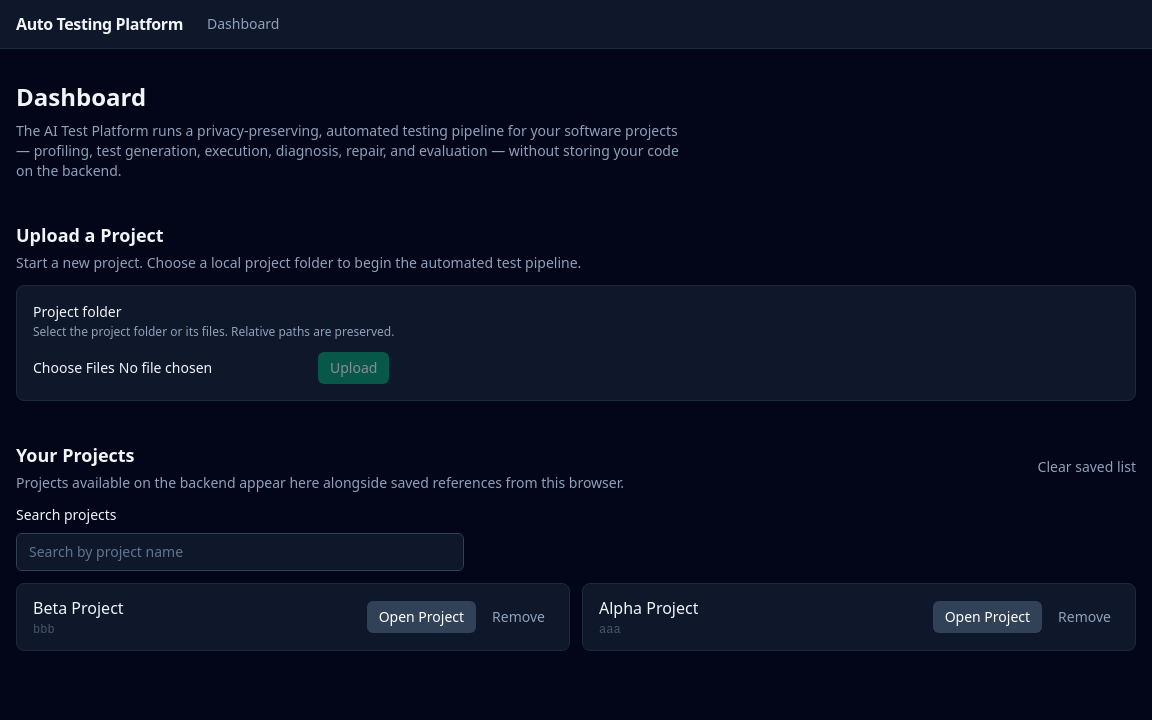
Scenario: DashboardPage › filters the project list by case-insensitive name search
This screenshot has width=1152, height=720.
Expected: the text "Alpha Project" is shown, [599,596,698,620]
Expected: the text "Beta Project" is shown, [33,596,124,620]
In the search field labelled "Search projects": (240, 552) [16,533,464,571], type "alpha"
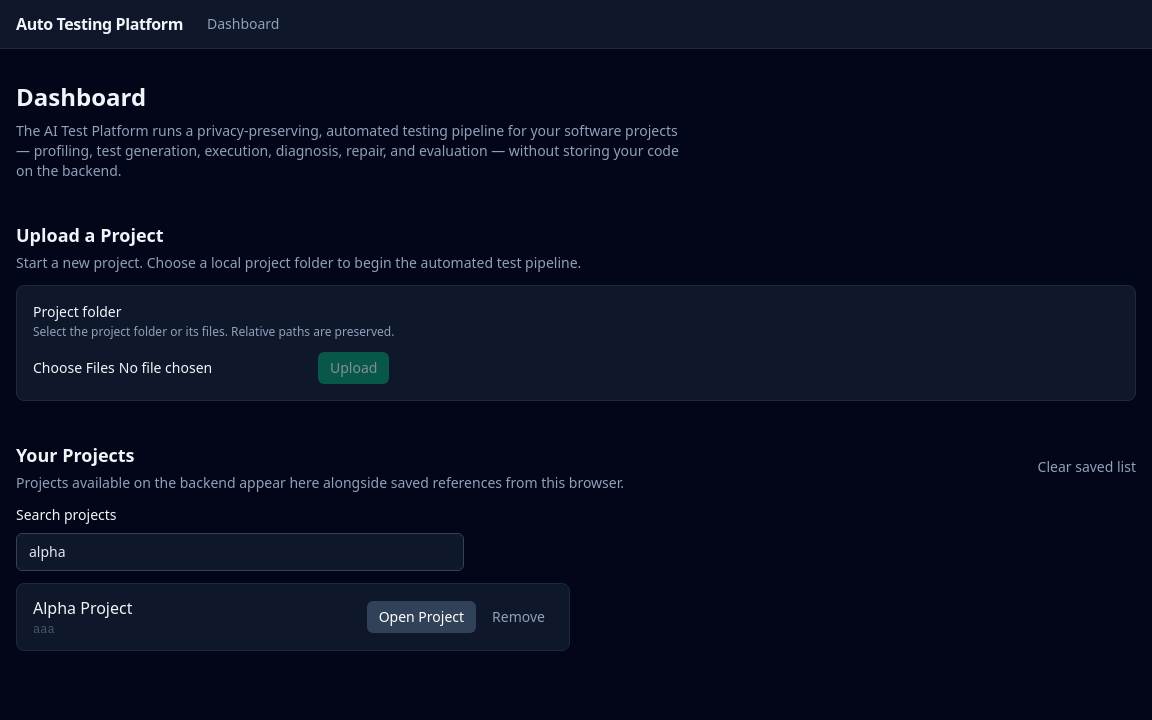
Expected: the text "Alpha Project" is shown, [33,596,132,620]
Expected: the text "Beta Project" is gone
